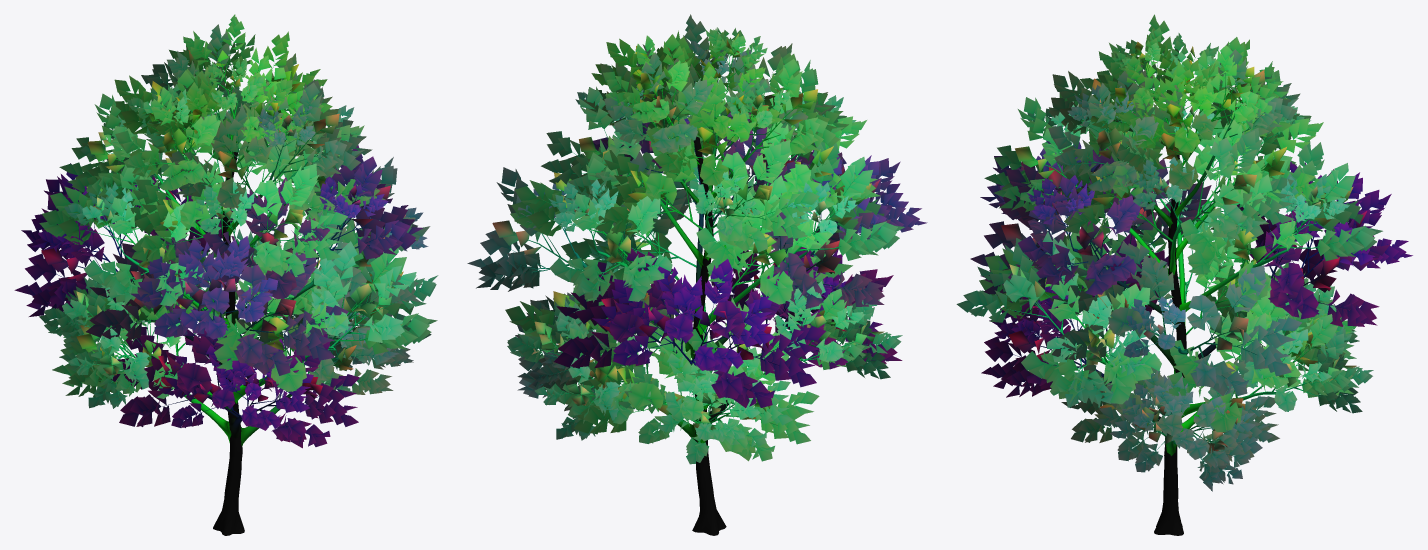
The model's file is SM_TreeIt_Maple.fbx.
3 views of the same model, side by side, from view 1: azimuth 30°, elevation 25°; view 2: azimuth 150°, elevation 25°; view 3: azimuth 270°, elevation 25° (orthographic). The views are drawn at different scales.
Parts seen in each view (by area): view 1: leaf maple_1, bark02_0; view 2: leaf maple_1, bark02_0; view 3: leaf maple_1, bark02_0.
Boxes of the visible parts, x1,y1,x2,y2 form: leaf maple_1: [14, 14, 438, 448]; bark02_0: [50, 45, 413, 535]; leaf maple_1: [467, 14, 927, 464]; bark02_0: [498, 39, 886, 535]; leaf maple_1: [956, 14, 1412, 491]; bark02_0: [998, 55, 1355, 535].
Bounding box in the file's own units: 662 × 822 × 679.
